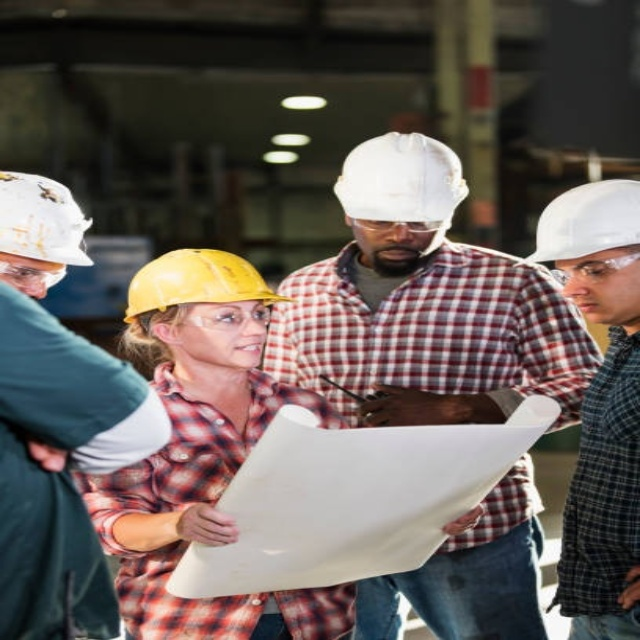Gafas: (548, 249, 639, 286), (1, 254, 68, 291), (172, 306, 276, 329), (352, 216, 445, 234)
Sin_guantes: (359, 378, 489, 431), (171, 500, 242, 550), (433, 499, 486, 536)
Sin_mascara: (569, 293, 623, 324), (369, 244, 422, 267), (221, 339, 265, 363)
